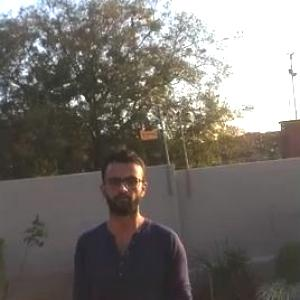follow: (64, 143, 199, 299)
